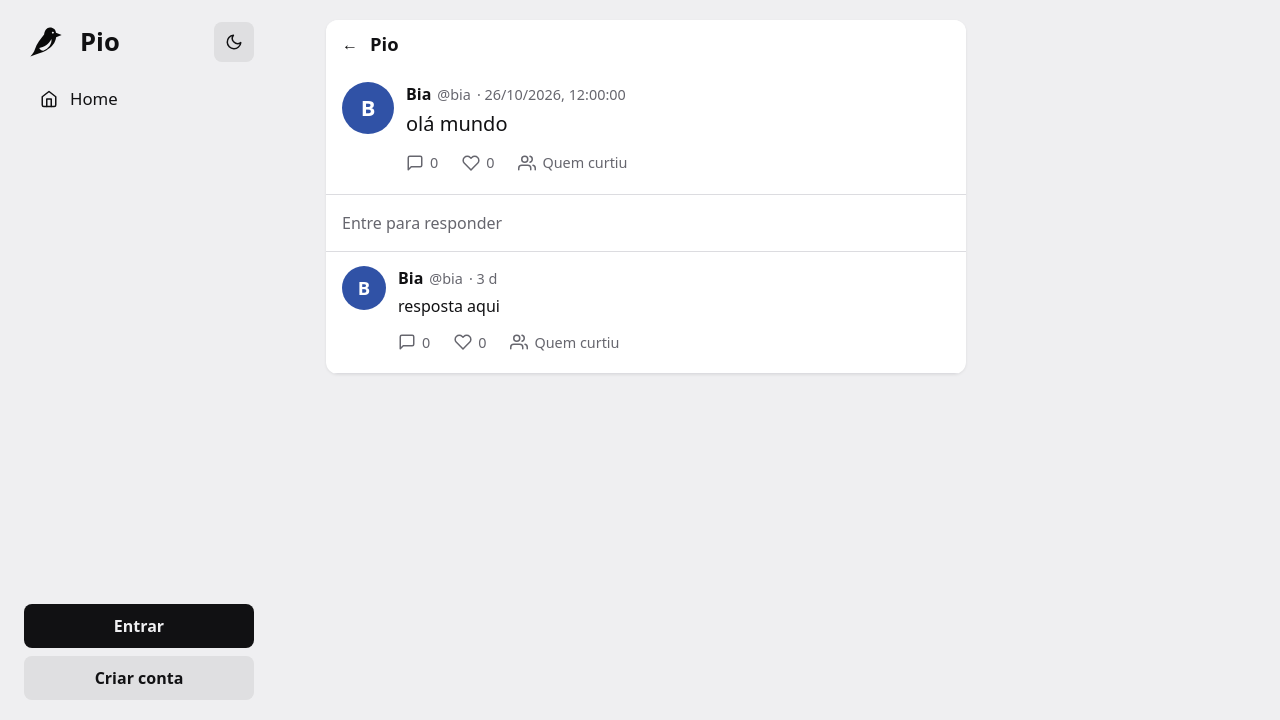
Test: visitante (sem conta) › no pio, lê as respostas mas não responde: no lugar do composer, um botão que abre o aviso de login
Expected: the text "resposta aqui" is shown, [398,295,500,317]
Click the button "Entre para responder": (422, 223) [326,195,966,252]
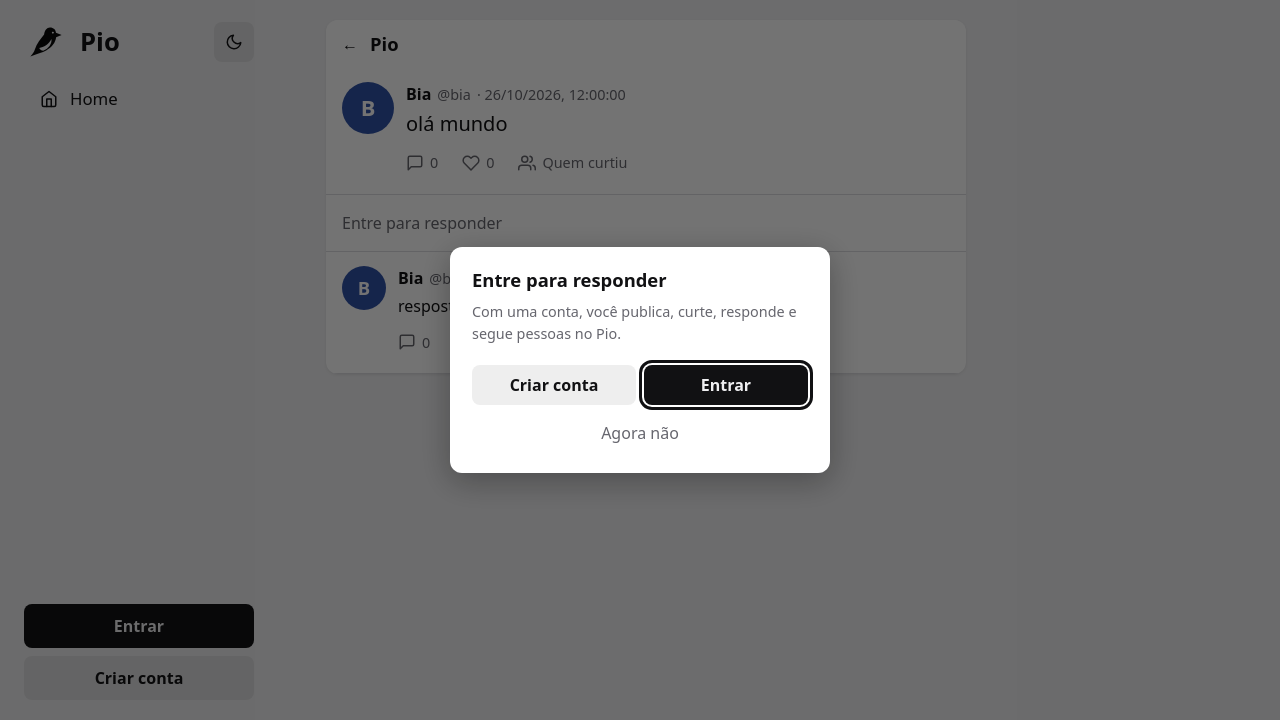
Now the dialog "Entre para responder" is shown, box [450,247,830,473]
